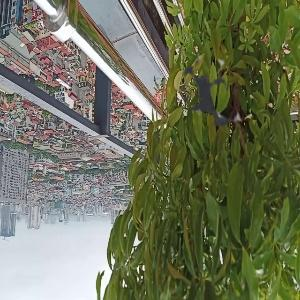drone: (145, 30, 271, 156)
